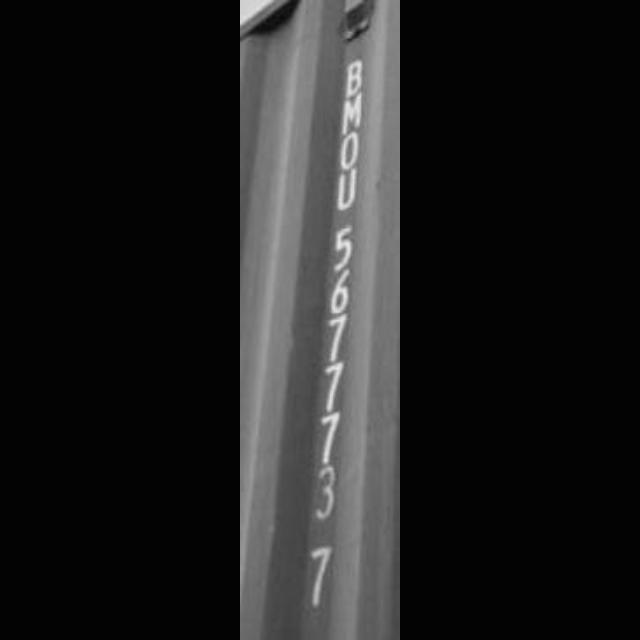3: (308, 465, 344, 527)
5: (326, 222, 366, 276)
6: (322, 268, 358, 318)
7: (300, 541, 344, 611), (316, 358, 354, 414), (316, 414, 352, 464), (322, 309, 352, 359)
b: (336, 45, 372, 97)
m: (334, 92, 374, 136)
o: (330, 130, 368, 168)
u: (329, 167, 365, 221)
